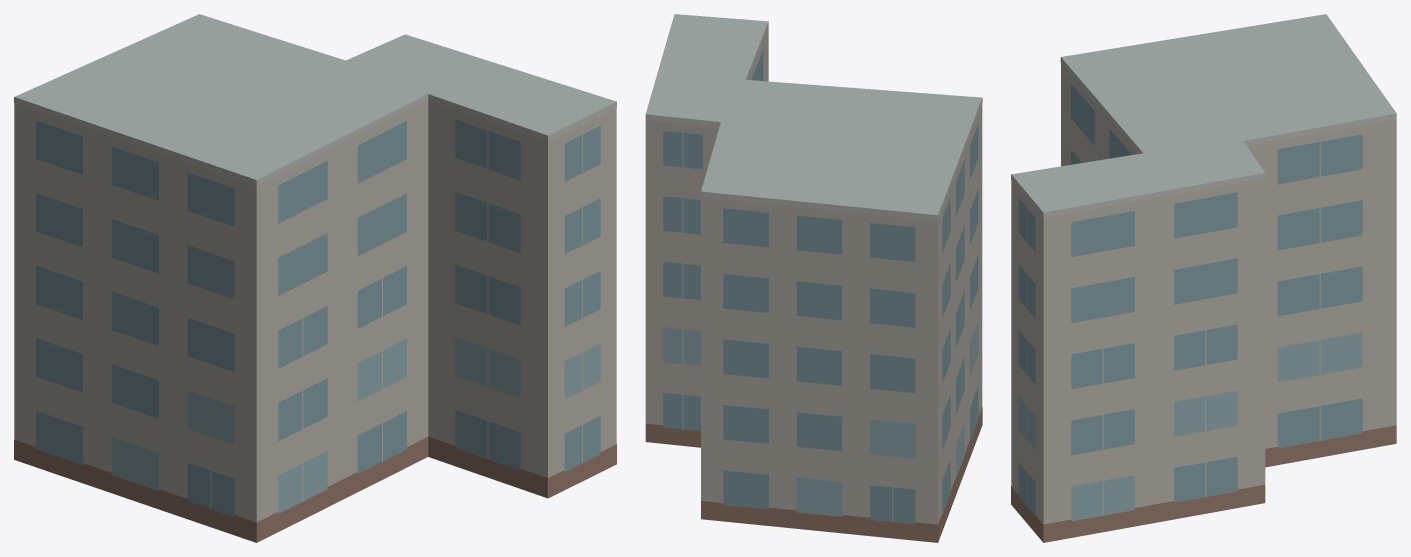
File: survey-upis-32644591.glb
The picture shows the model from 3 angles, left to right: view 1: azimuth 30°, elevation 25°; view 2: azimuth 150°, elevation 25°; view 3: azimuth 270°, elevation 25°; orthographic projection. The views are drawn at different scales.
Visible parts, largest first — view 1: survey-upis-32644591.tmp; view 2: survey-upis-32644591.tmp; view 3: survey-upis-32644591.tmp.
Boxes of the visible parts, box(x1,y1,x2,y2) form: survey-upis-32644591.tmp: box(14, 14, 616, 542); survey-upis-32644591.tmp: box(645, 14, 982, 542); survey-upis-32644591.tmp: box(1011, 14, 1396, 542).
Bounding box in the file's own units: 18.71 × 14.5 × 15.35.
